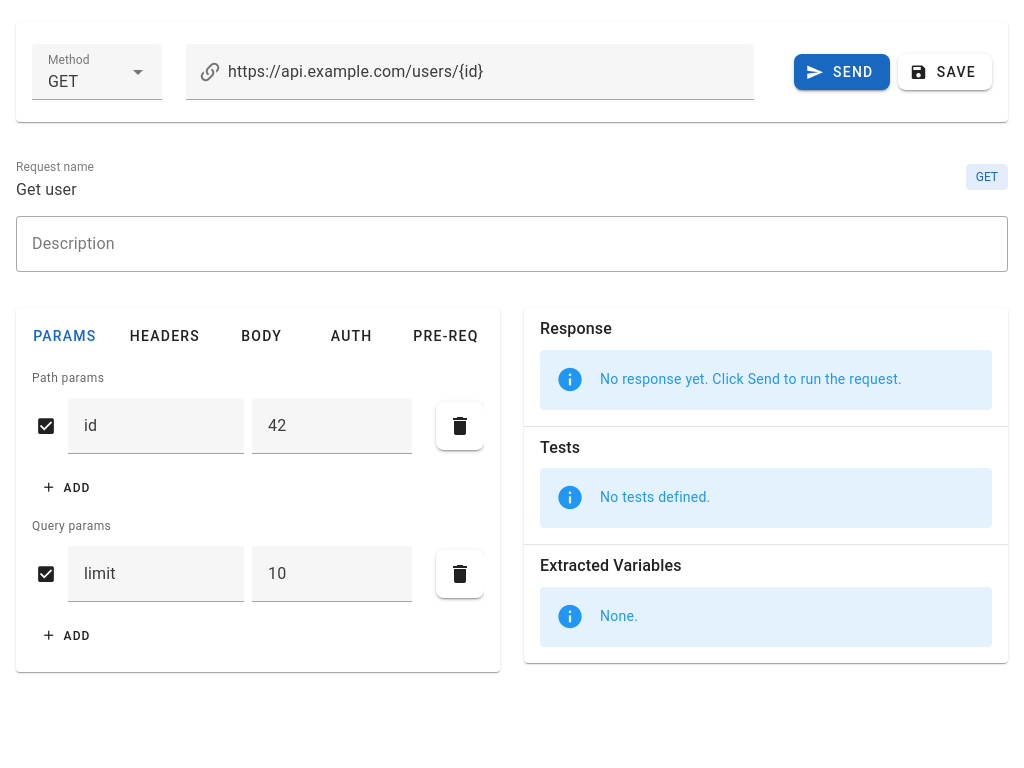
Test: RequestEditor › renders imported path params, query params, headers and body
Click the tab "Headers" at (164, 336), box [113,314,216,358]
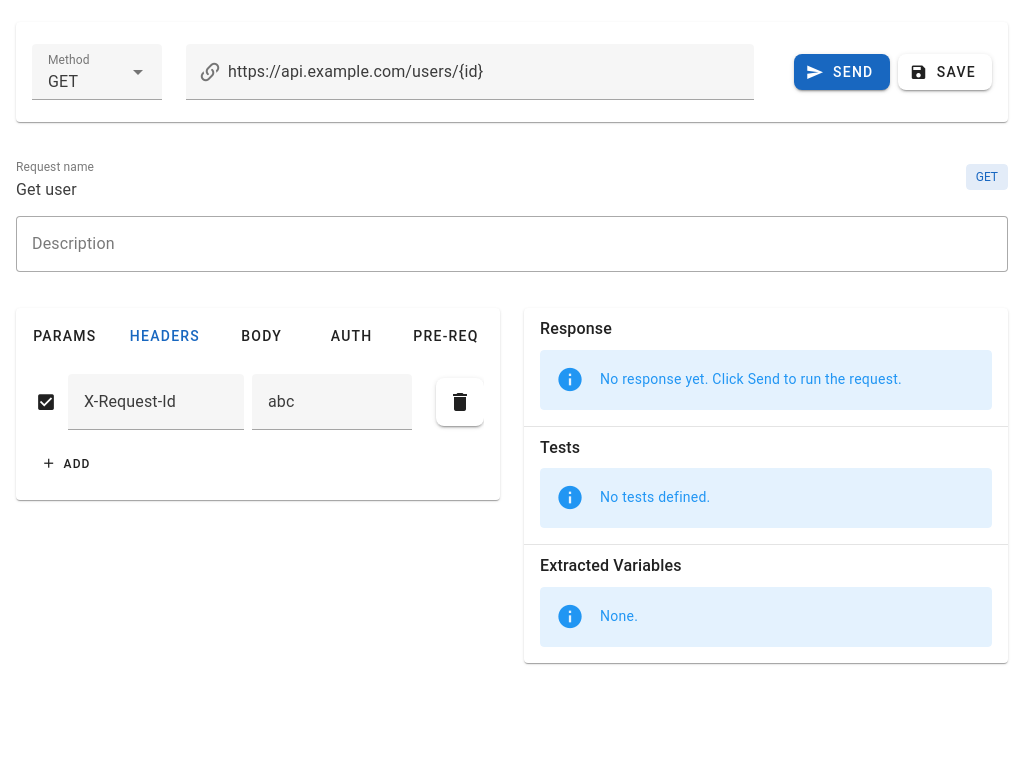
Click the tab "Body" at (261, 336), box [216,314,306,358]
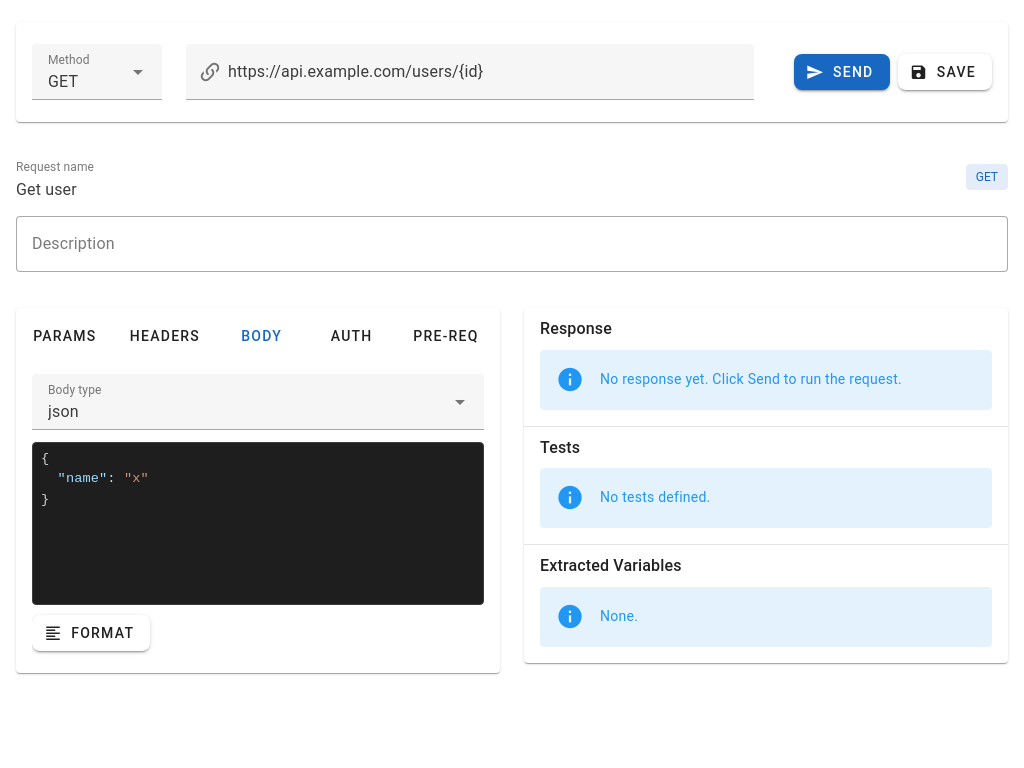
Result: the text box is shown at [32,442,484,605]
